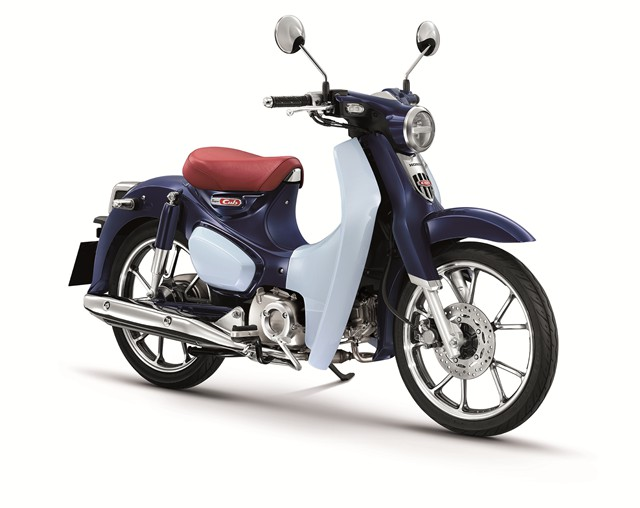motorcycle: (80, 86, 563, 439)
